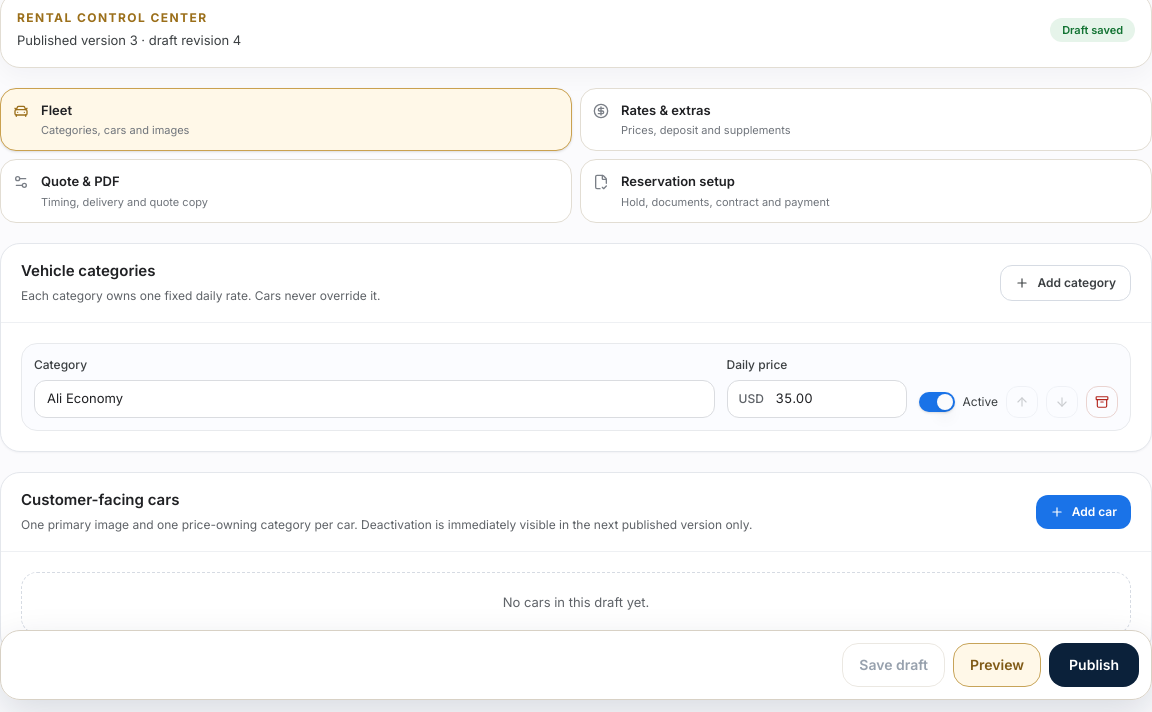
RentalControlCenter › preserves local edits when optimistic concurrency reports a conflict
Replace the text in the field showing "Ali Economy" with "Locally edited economy" at (374, 399), box [34,380,714,418]
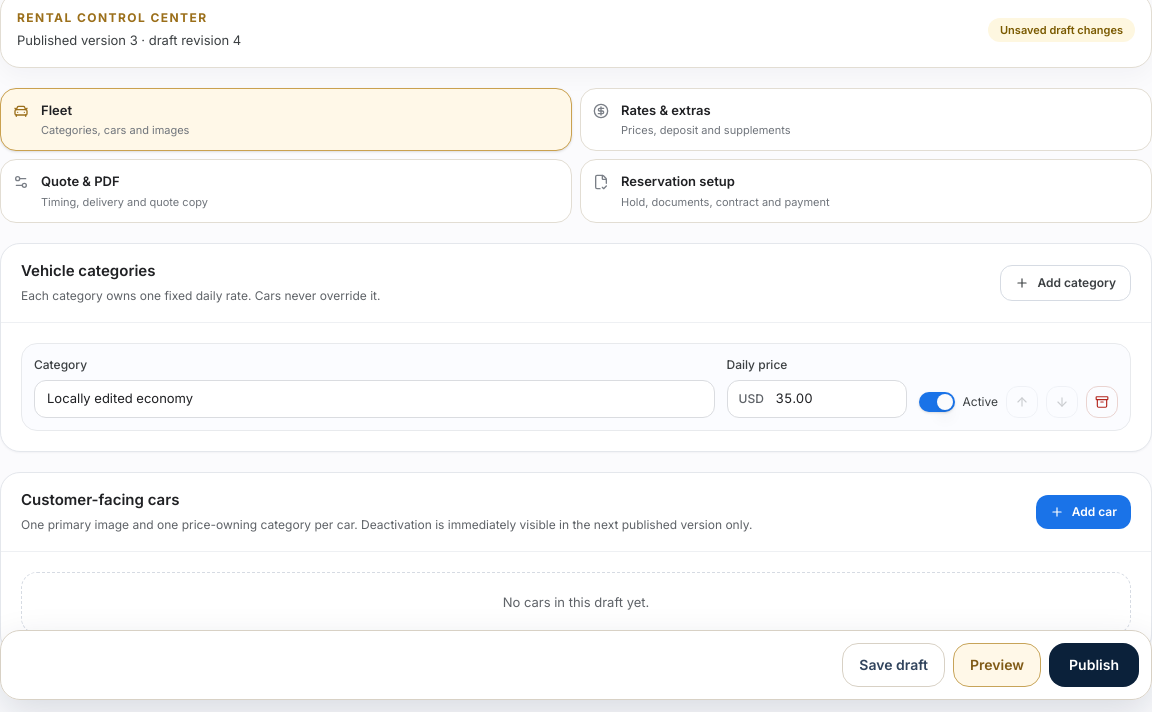
Click the button "Quote & PDF Timing, delivery and quote copy" at (80, 181), box [0,159,572,222]
(page scrolled)
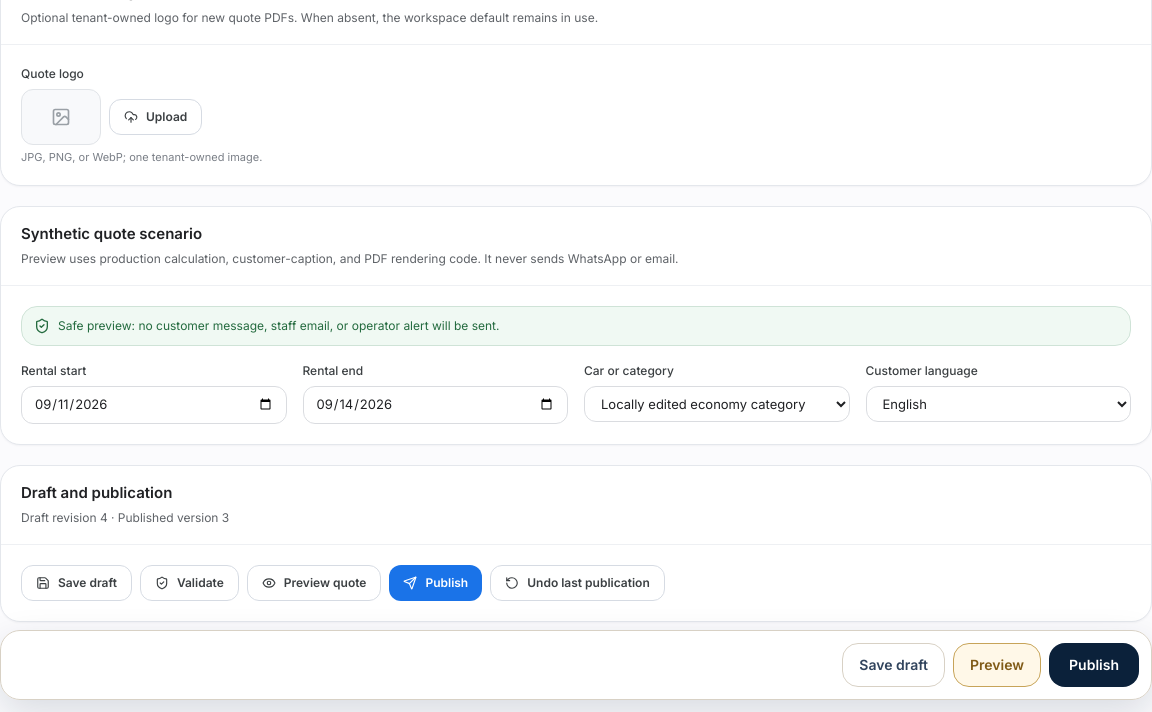
Click the button "Save draft" below "Draft revision 4 · Published version 3" at (76, 583), box [21,565,132,601]
(page scrolled)
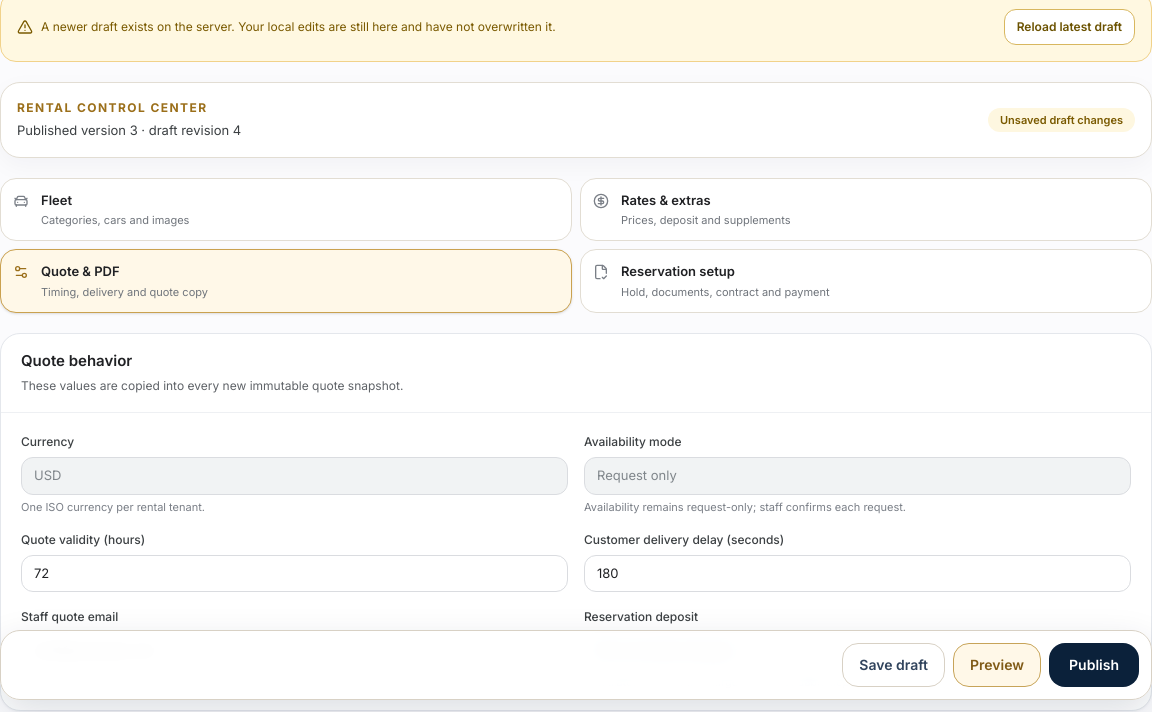
Expected: the text "newer draft exists on the server" is shown, [41,19,556,34]
Click the button "Fleet Categories, cars and images" at (57, 200), box [0,178,572,241]
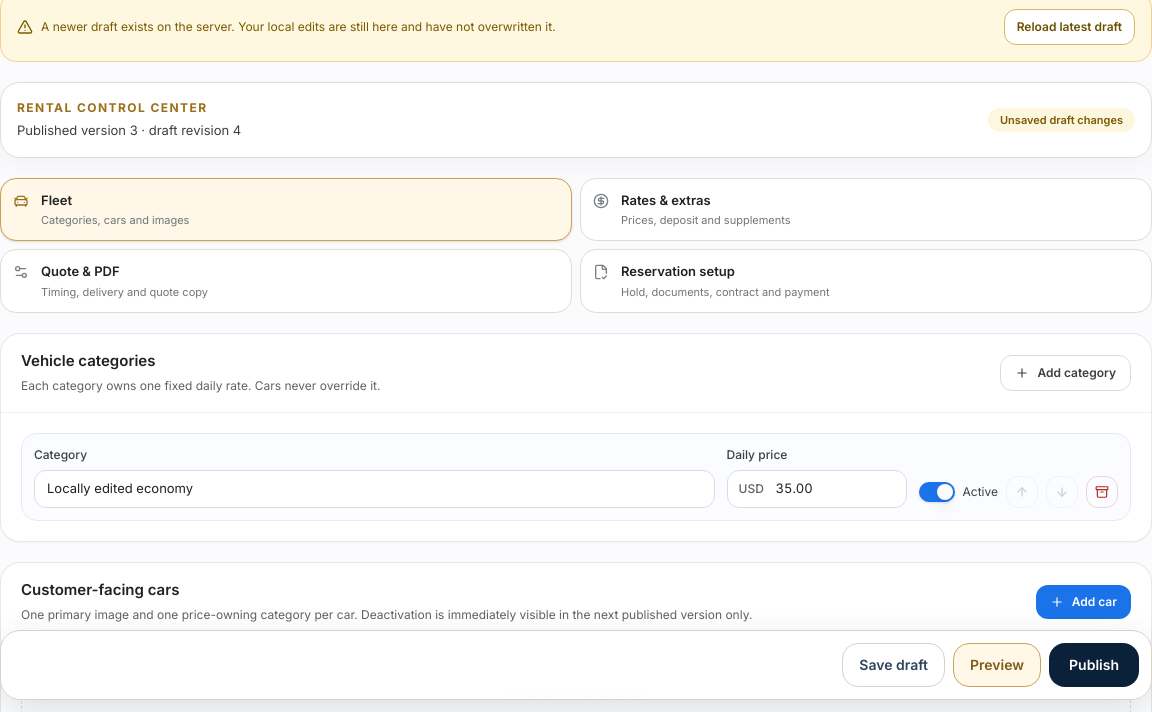
Expected: the field showing "Locally edited economy" is shown, [34,470,714,508]
